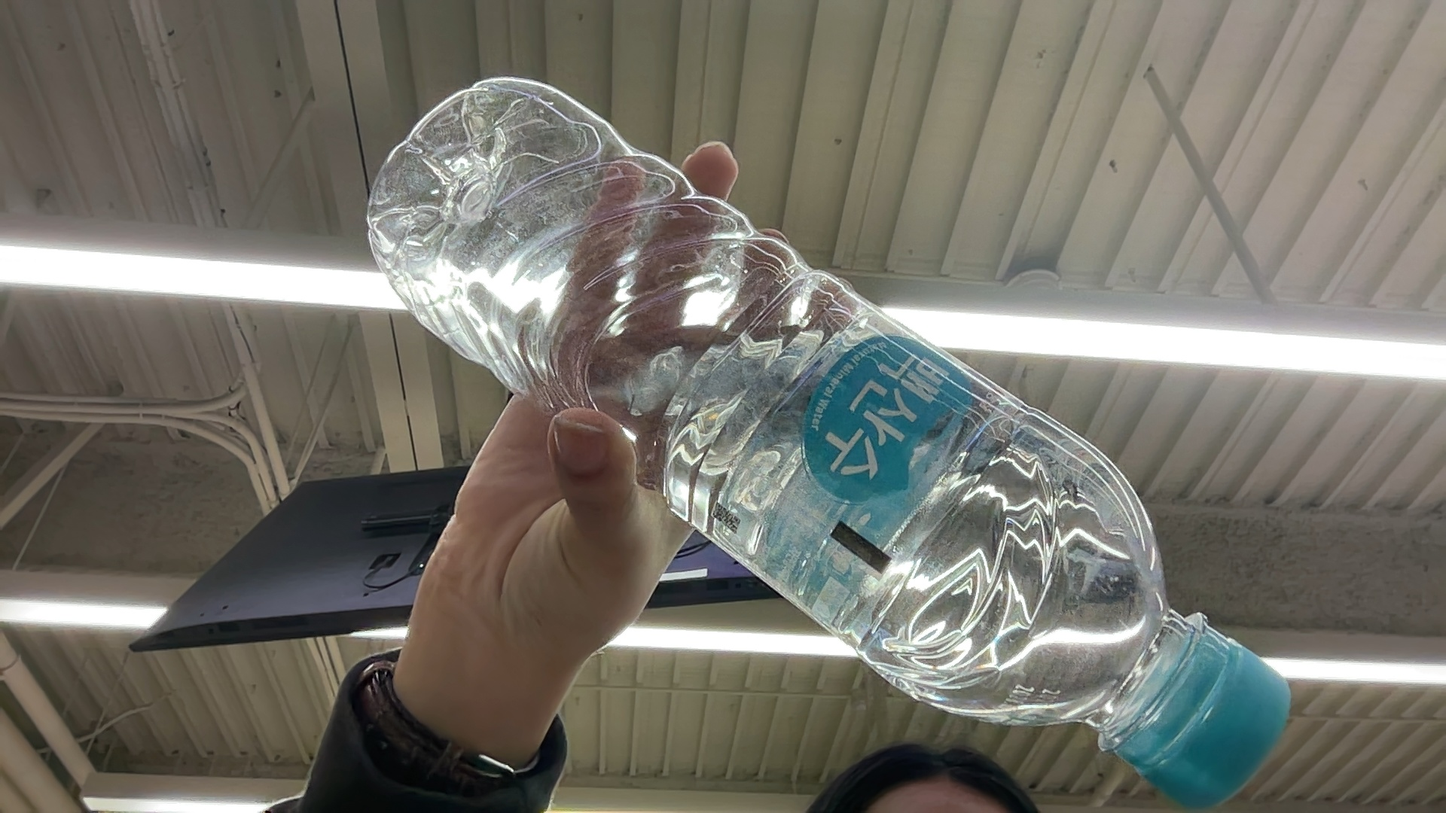Plastic: (359, 62, 1265, 806)
